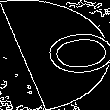O_W: (8, 28, 102, 82)
